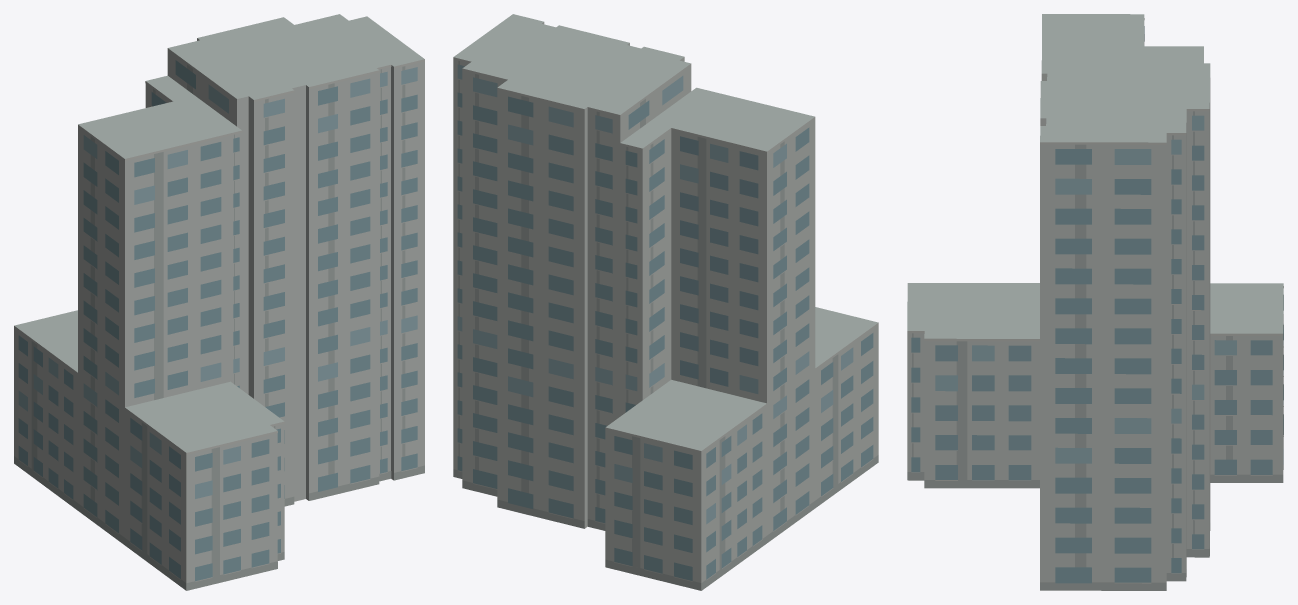
The model's file is residential-d5645c3e-ce87-488a-80de-af121fd93a67.glb.
The picture shows the model from 3 angles, left to right: view 1: azimuth 30°, elevation 25°; view 2: azimuth 150°, elevation 25°; view 3: azimuth 270°, elevation 25°; orthographic projection. The views are drawn at different scales.
Visible parts, largest first — view 1: residential-d5645c3e-ce87-488a-80de-af121fd93a67.tmp; view 2: residential-d5645c3e-ce87-488a-80de-af121fd93a67.tmp; view 3: residential-d5645c3e-ce87-488a-80de-af121fd93a67.tmp.
Boxes of the visible parts, x1,y1,x2,y2 form: residential-d5645c3e-ce87-488a-80de-af121fd93a67.tmp: (14,14,424,590); residential-d5645c3e-ce87-488a-80de-af121fd93a67.tmp: (453,14,878,590); residential-d5645c3e-ce87-488a-80de-af121fd93a67.tmp: (907,14,1283,590).
Bounding box in the file's own units: 34.73 × 45.75 × 34.84.
